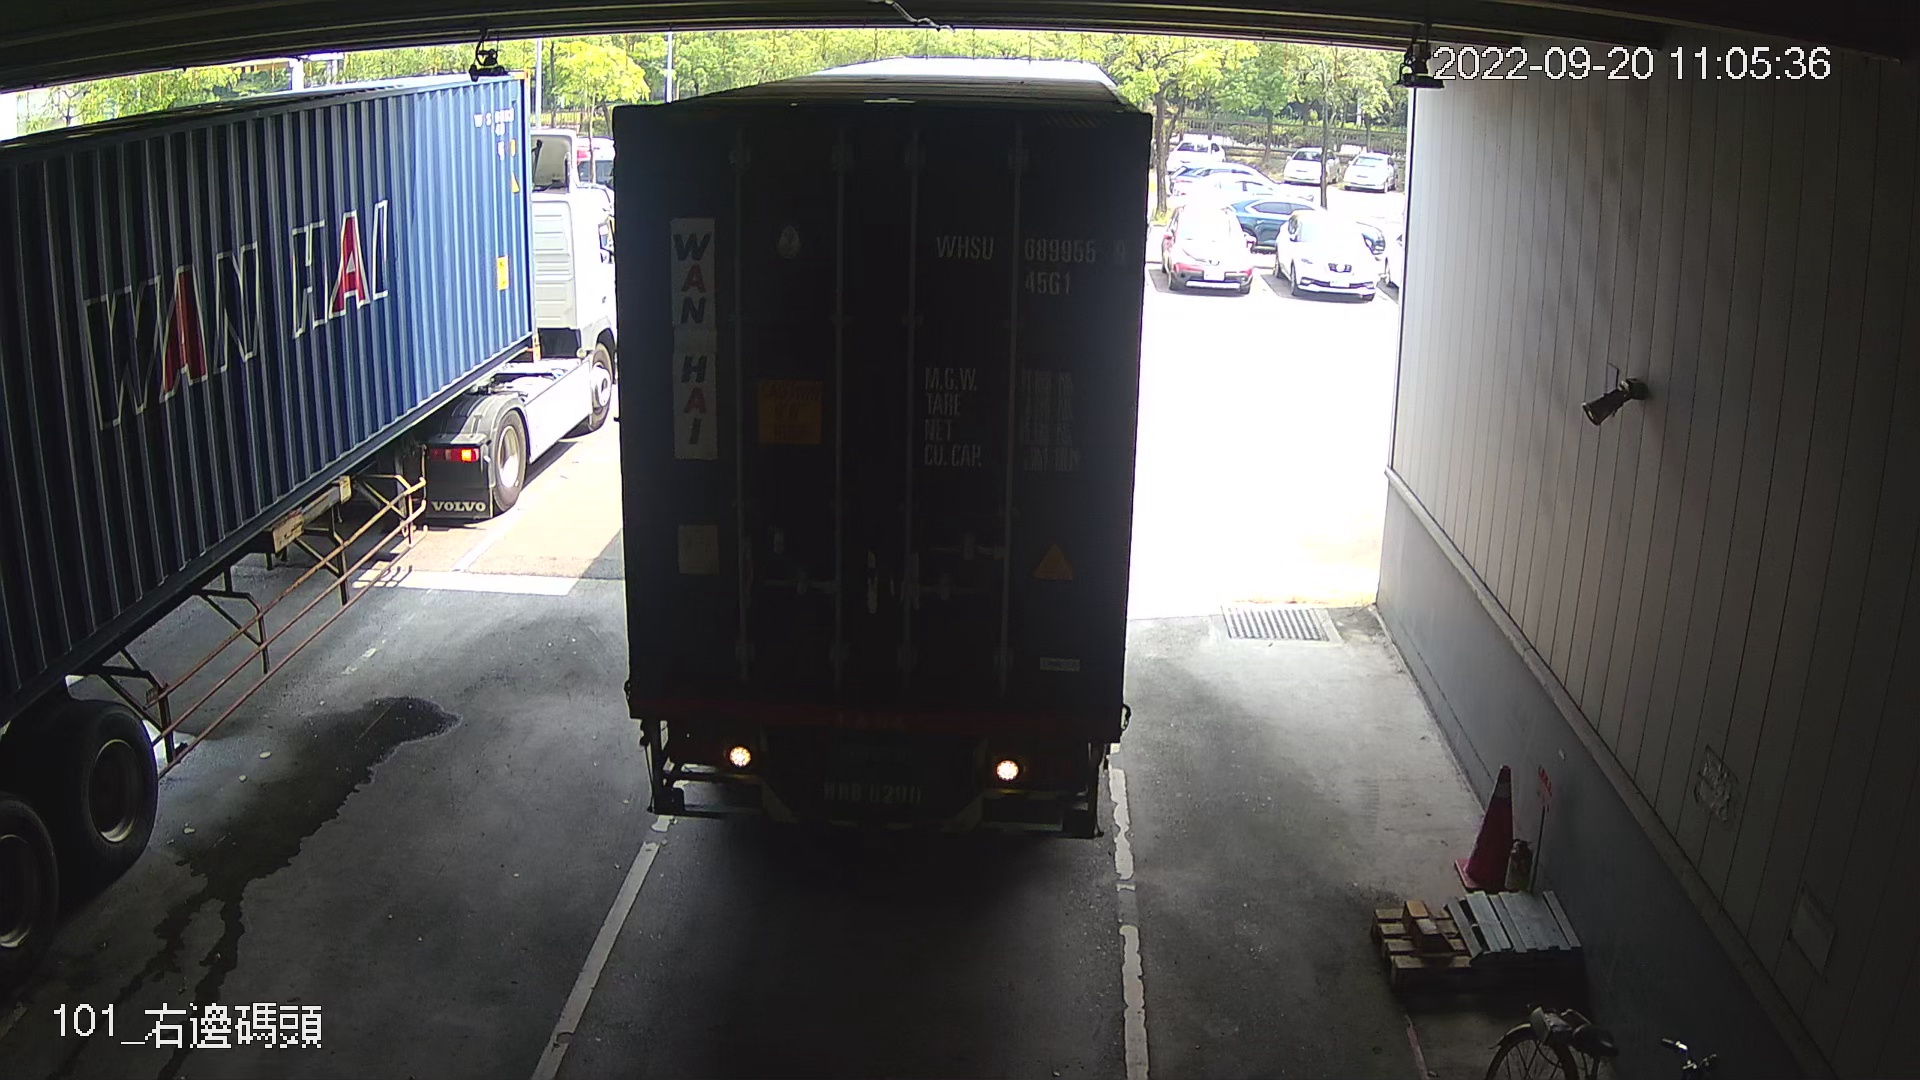container: (926, 222, 1135, 305)
